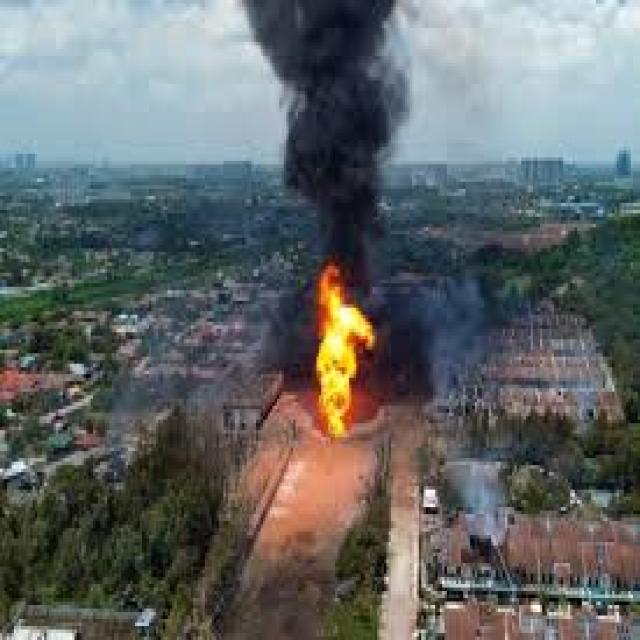explosion: (293, 266, 374, 469)
